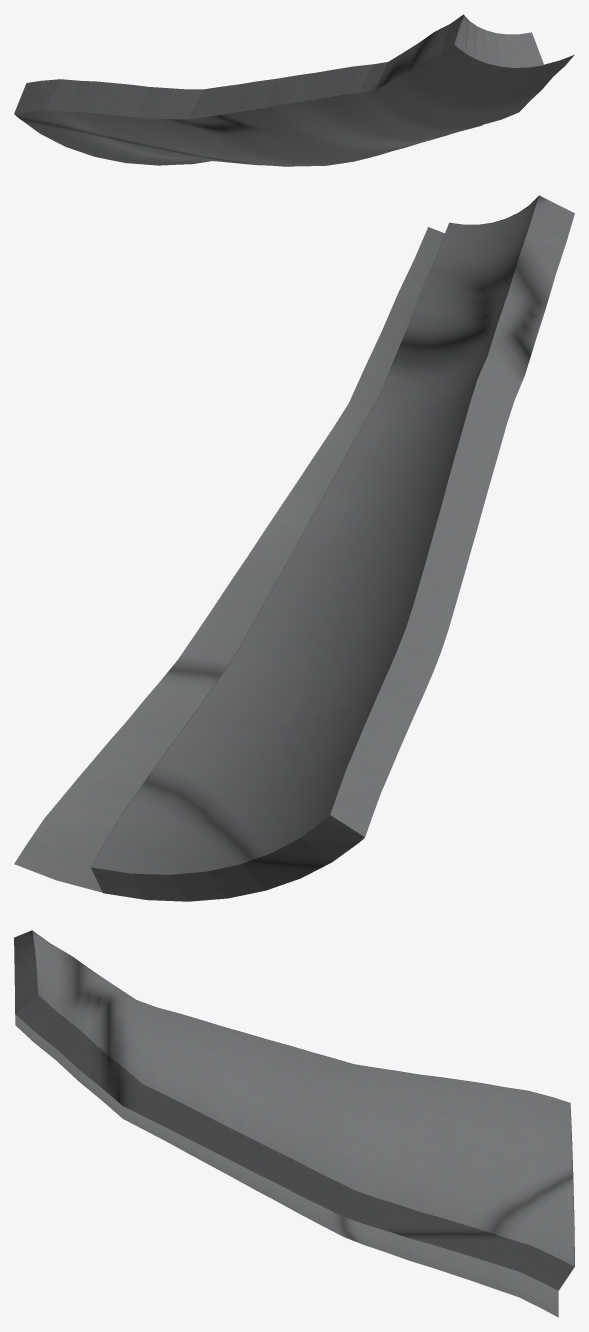
The model's file is mi26_door_l.glb.
3 views of the same model, one above another, from view 1: azimuth 30°, elevation 25°; view 2: azimuth 150°, elevation 25°; view 3: azimuth 270°, elevation 25° (orthographic). The views are drawn at different scales.
Parts seen in each view (by area): view 1: heli_mi26; view 2: heli_mi26; view 3: heli_mi26.
Boxes of the visible parts, x1,y1,x2,y2 form: heli_mi26: (14, 14, 574, 166); heli_mi26: (14, 195, 574, 901); heli_mi26: (14, 930, 574, 1317).
Size of the model in its own units: 7.25 by 9.01 by 13.74.
3 materials, 3 textured.
